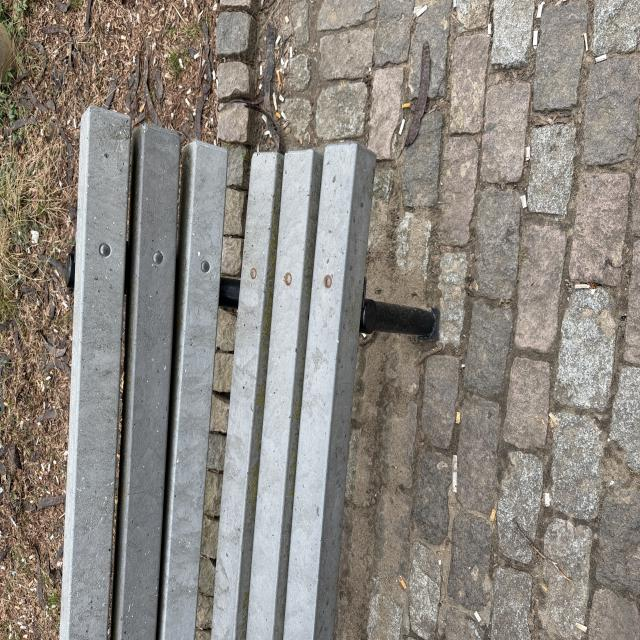Bench: (18, 92, 415, 554)
